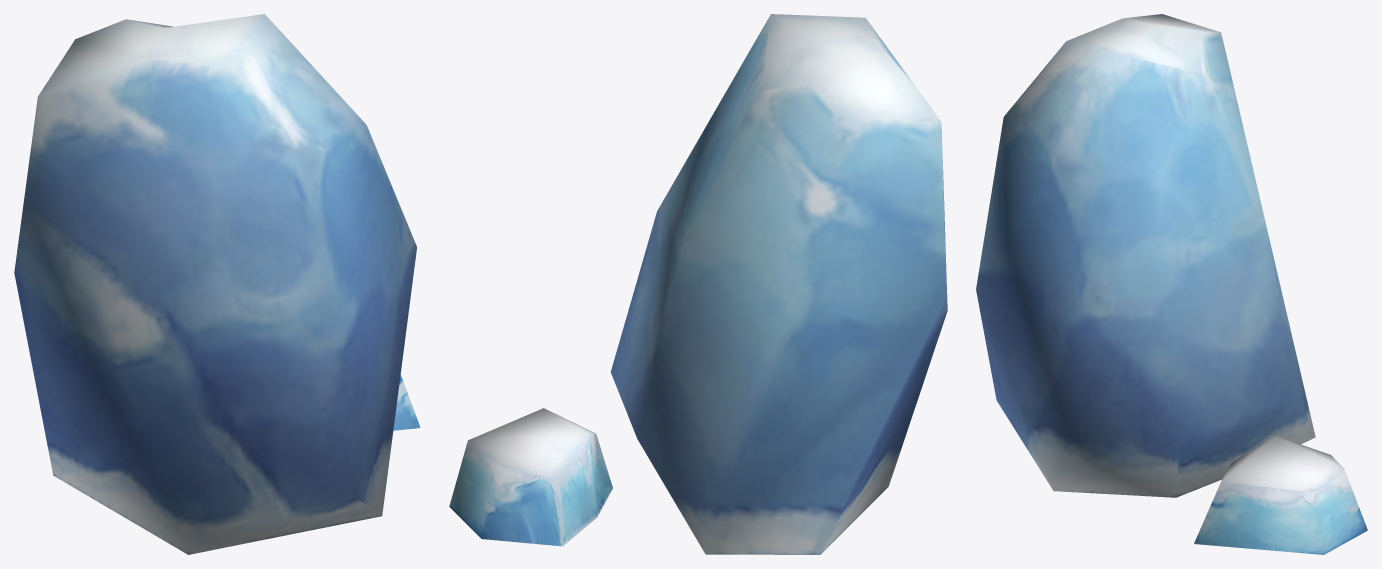
Rendered from SM_stoneB_11.fbx.
3 renders of one model, left to right at view 1: azimuth 30°, elevation 25°; view 2: azimuth 150°, elevation 25°; view 3: azimuth 270°, elevation 25°, orthographic. The views are drawn at different scales.
Parts seen in each view (by area): view 1: SM_stoneB_11; view 2: SM_stoneB_11; view 3: SM_stoneB_11.
Part boxes in pixels (x1,y1,x2,y2): SM_stoneB_11: (14, 14, 420, 554); SM_stoneB_11: (449, 14, 947, 554); SM_stoneB_11: (976, 14, 1367, 554).
Bounding box in the file's own units: 2.03 × 2.18 × 1.88.
